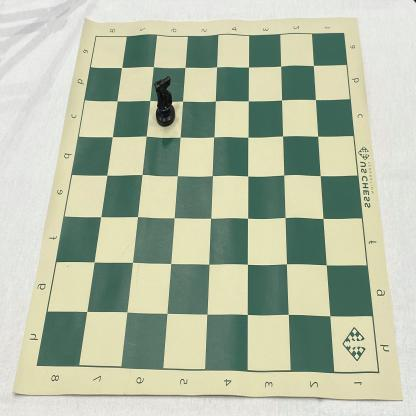black-knight: (154, 74, 176, 128)
